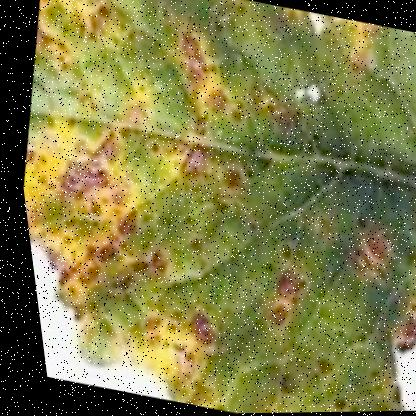AlternariaBrassicicola: (154, 20, 231, 90), (142, 127, 218, 192), (229, 292, 299, 348), (333, 226, 393, 288), (163, 300, 225, 360), (245, 260, 313, 312), (187, 84, 249, 127), (248, 361, 302, 406), (114, 240, 173, 281), (201, 159, 250, 207), (291, 353, 337, 382), (312, 390, 344, 412)
